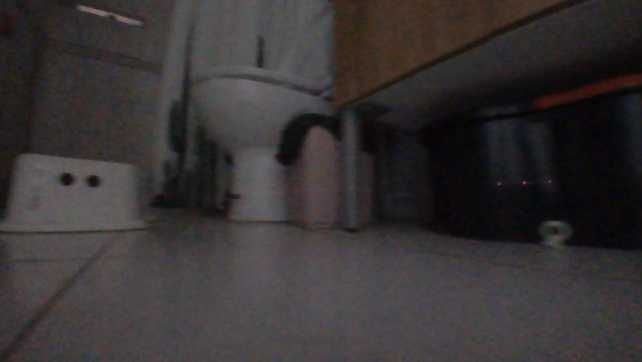toilet: (185, 7, 335, 220)
